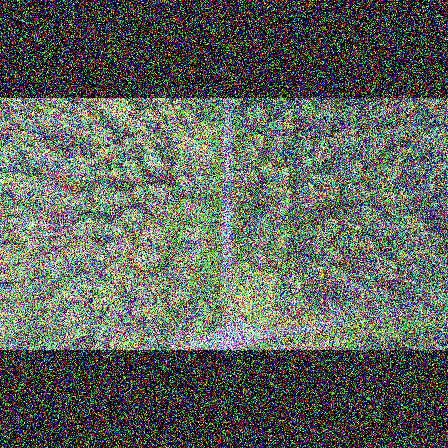Sick: (138, 220, 158, 249), (372, 101, 396, 123), (128, 285, 149, 305), (43, 261, 63, 280), (314, 226, 333, 245), (168, 252, 186, 270), (360, 268, 378, 285), (169, 157, 186, 172), (311, 148, 326, 164), (376, 290, 392, 304), (328, 248, 342, 262), (299, 140, 312, 150)
